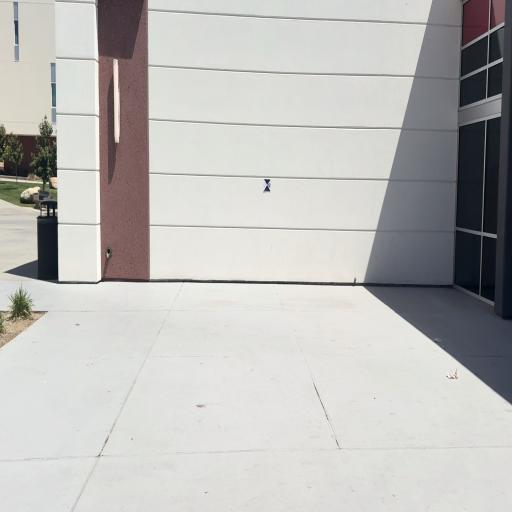target0: (263, 179, 271, 192)
